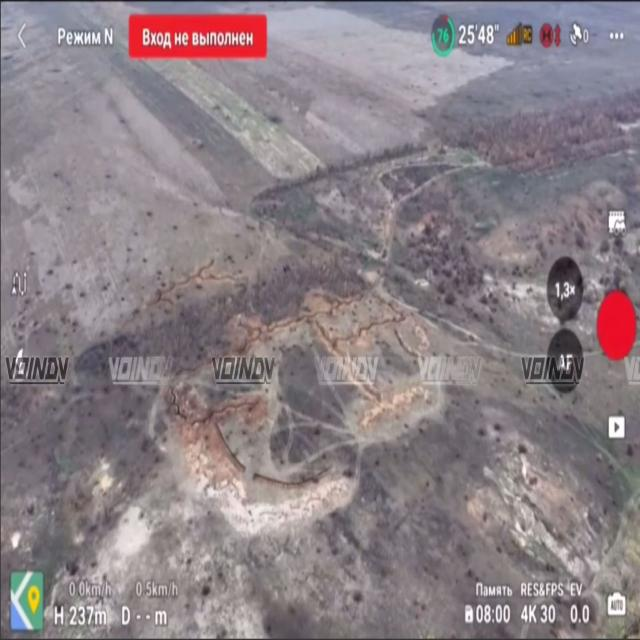fortification: (216, 417, 324, 516), (310, 321, 390, 424), (349, 377, 451, 457), (158, 371, 270, 442), (233, 296, 319, 360), (144, 254, 242, 304), (332, 296, 413, 352), (306, 272, 393, 322), (383, 317, 430, 361), (228, 298, 270, 342)
